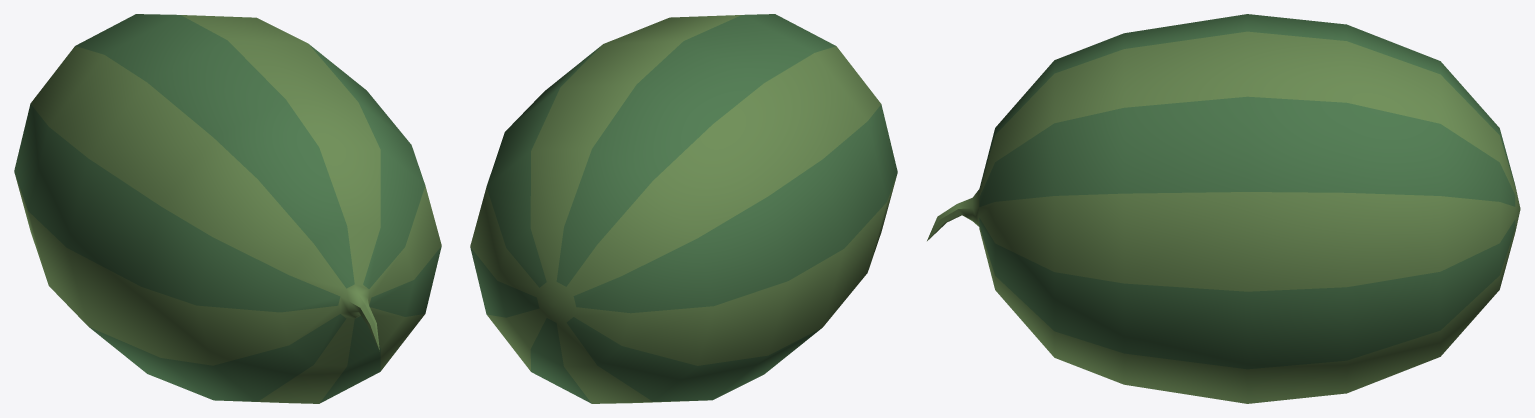
File: Watermelon_2.fbx
3 renders of one model, left to right at view 1: azimuth 30°, elevation 25°; view 2: azimuth 150°, elevation 25°; view 3: azimuth 270°, elevation 25°, orthographic. The views are drawn at different scales.
Visible parts, largest first — view 1: Watermelon_2; view 2: Watermelon_2; view 3: Watermelon_2.
Part boxes in pixels (left/top/right/bottom): Watermelon_2: left=14, top=14, right=441, bottom=403; Watermelon_2: left=470, top=14, right=897, bottom=403; Watermelon_2: left=927, top=14, right=1520, bottom=403.
Bounding box in the file's own units: 0.1918 × 0.1918 × 0.2911.
